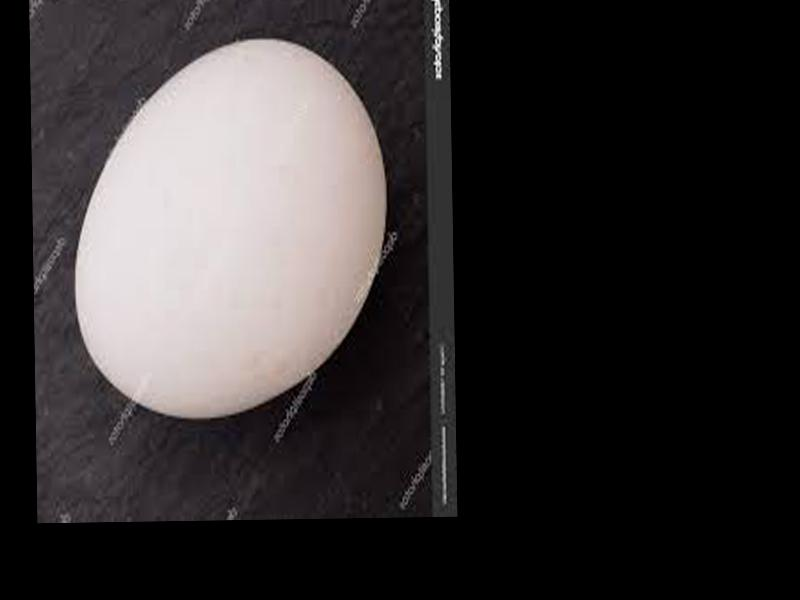Eggs: (73, 37, 390, 420)
